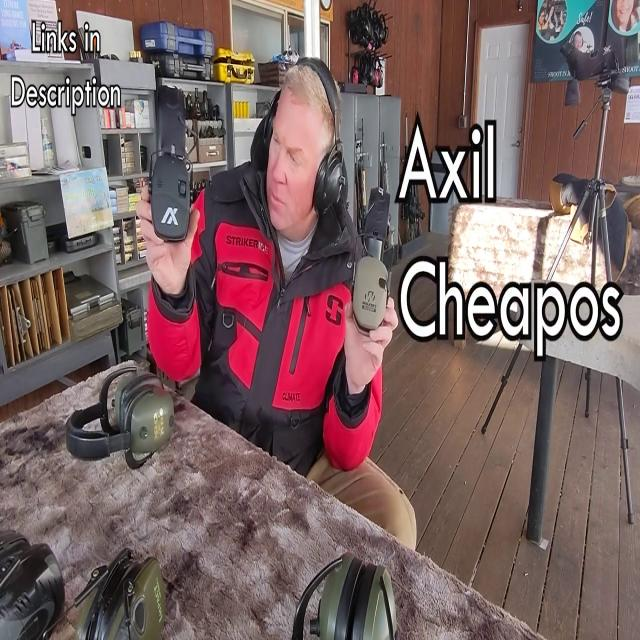earmuff: (147, 146, 196, 247), (118, 387, 178, 462), (112, 364, 166, 436), (352, 254, 392, 332), (310, 145, 346, 222), (260, 87, 282, 151)
